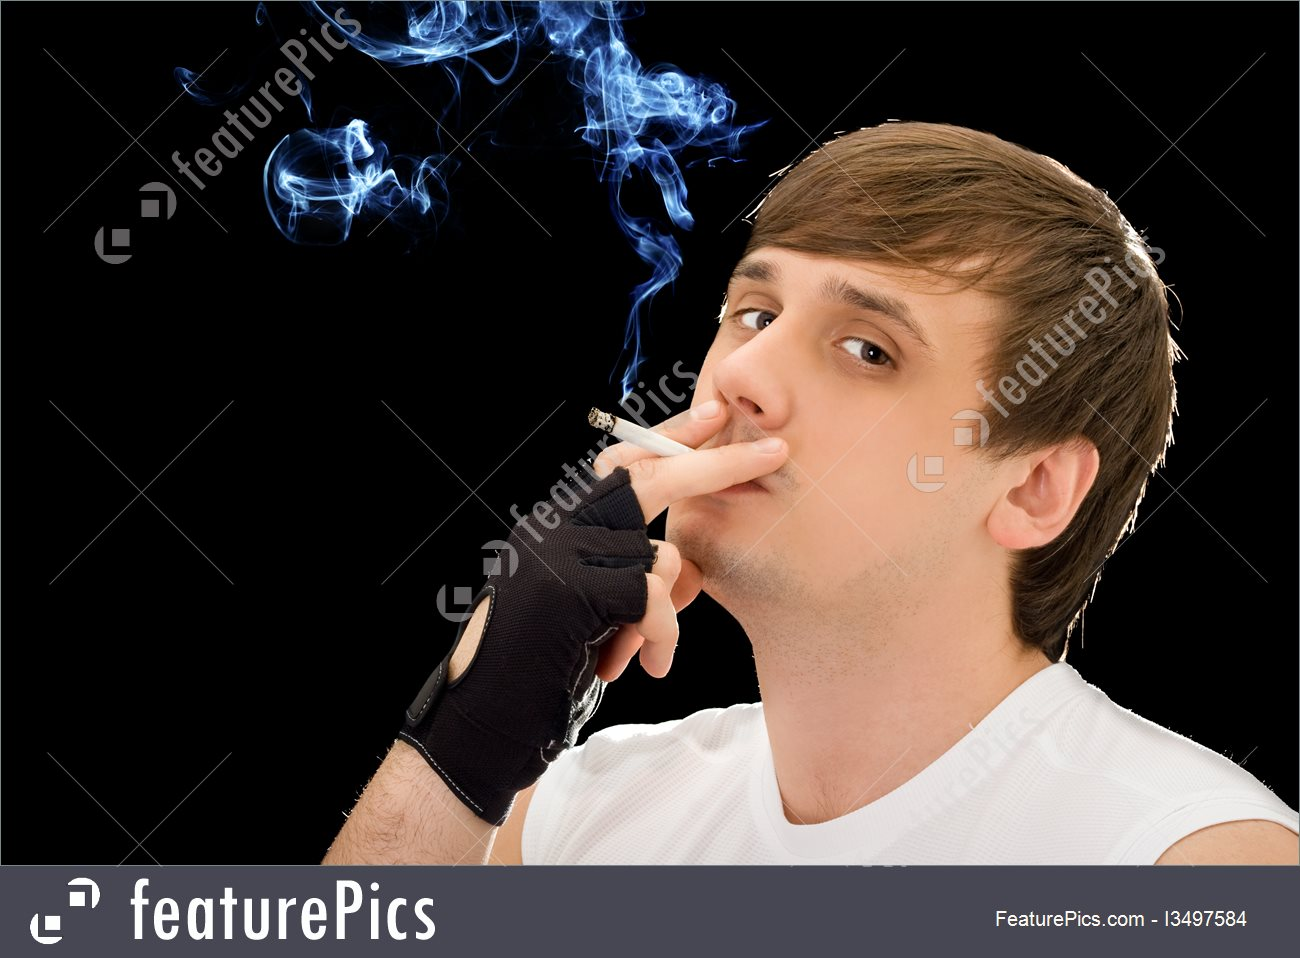cigarette: (590, 408, 706, 467)
